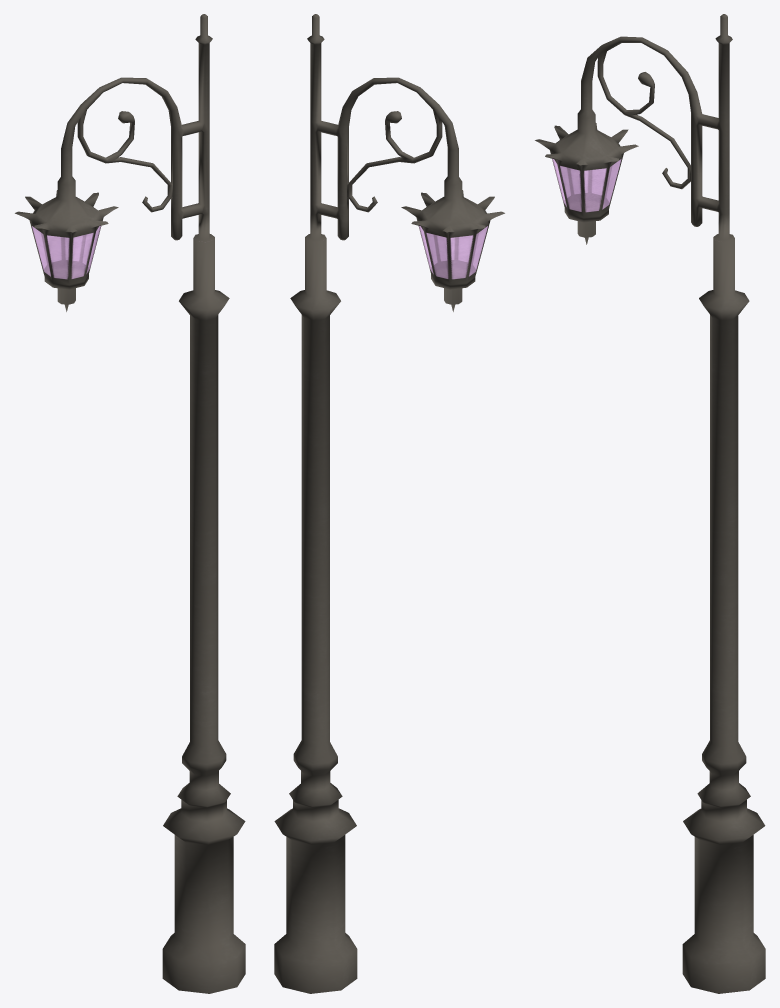
The model's file is lamp.gltf.
3 views of the same model, side by side, from view 1: azimuth 30°, elevation 25°; view 2: azimuth 150°, elevation 25°; view 3: azimuth 330°, elevation 25° (orthographic).
Visible parts, largest first — view 1: LampPost_LPoly; view 2: LampPost_LPoly; view 3: LampPost_LPoly.
Boxes of the visible parts, x1=… form: LampPost_LPoly: x1=15, y1=14, x2=245, y2=993; LampPost_LPoly: x1=274, y1=14, x2=504, y2=993; LampPost_LPoly: x1=535, y1=14, x2=765, y2=993.
Bounding box in the file's own units: 2.36 × 10.16 × 0.9336.
Materials: 1 (1 with a texture image).
